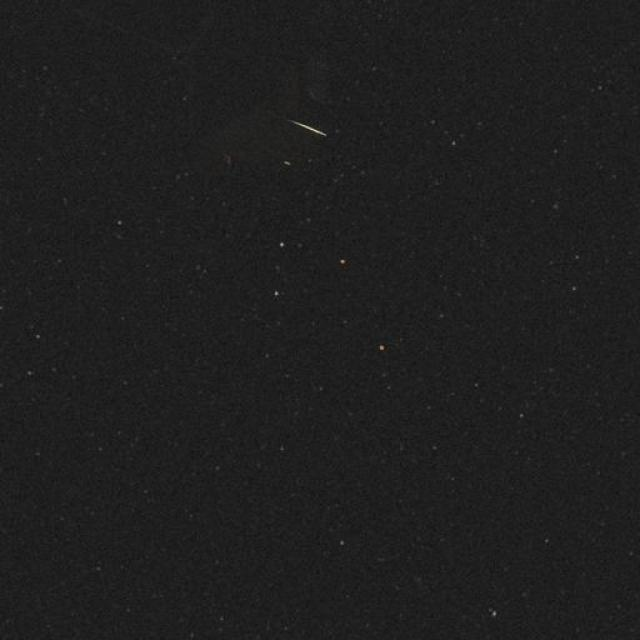soho: (163, 12, 375, 214)
